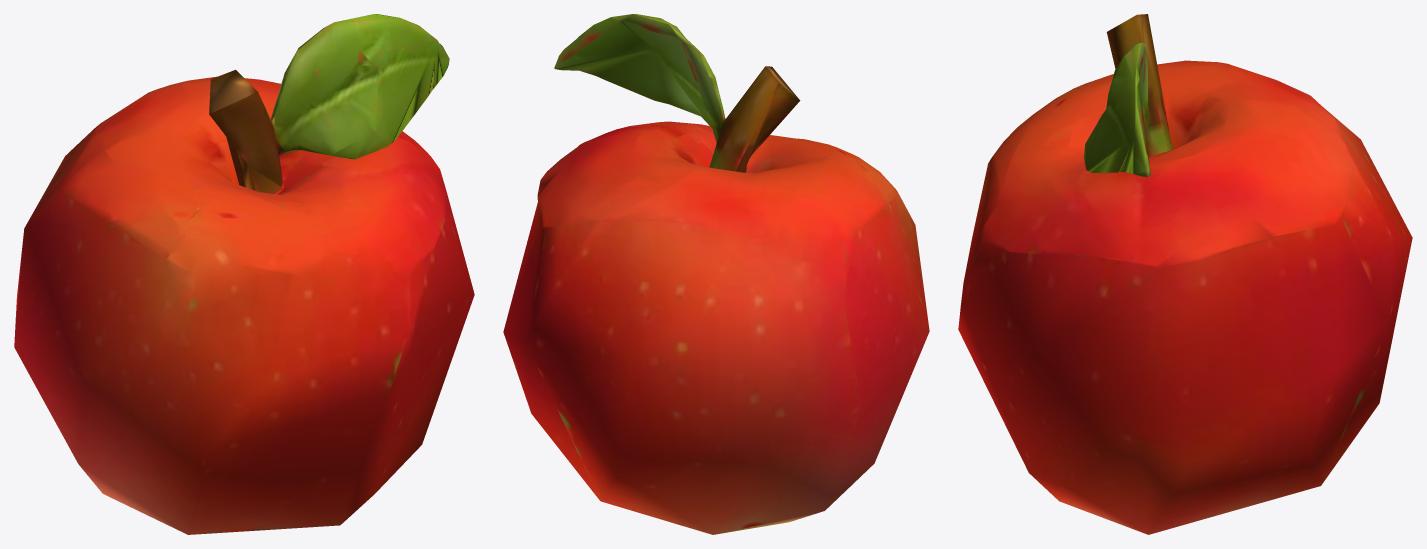
The model's file is apple.glb.
3 renders of one model, left to right at view 1: azimuth 30°, elevation 25°; view 2: azimuth 150°, elevation 25°; view 3: azimuth 270°, elevation 25°, orthographic. The views are drawn at different scales.
Visible parts, largest first — view 1: textured_mesh.obj; view 2: textured_mesh.obj; view 3: textured_mesh.obj.
Part boxes in pixels (box(x1,y1,x2,y2)): textured_mesh.obj: box(14, 14, 474, 534); textured_mesh.obj: box(503, 14, 929, 534); textured_mesh.obj: box(958, 14, 1412, 534).
Size of what is drawn, in the model's own units: 0.1821 by 0.2179 by 0.1824.
1 material, 1 textured.
